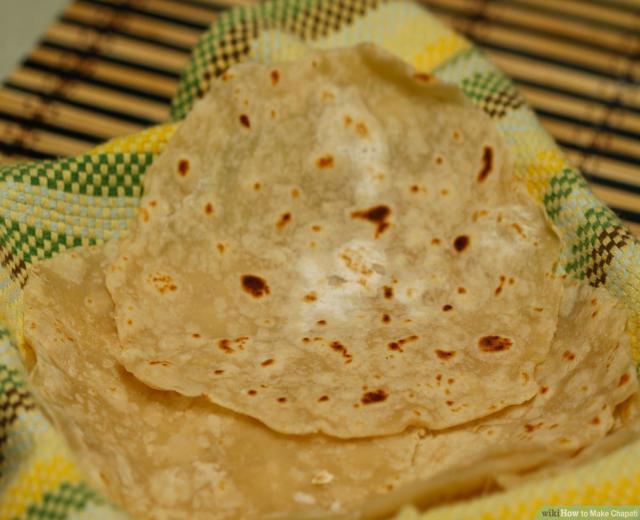chapati: (25, 44, 639, 519)
